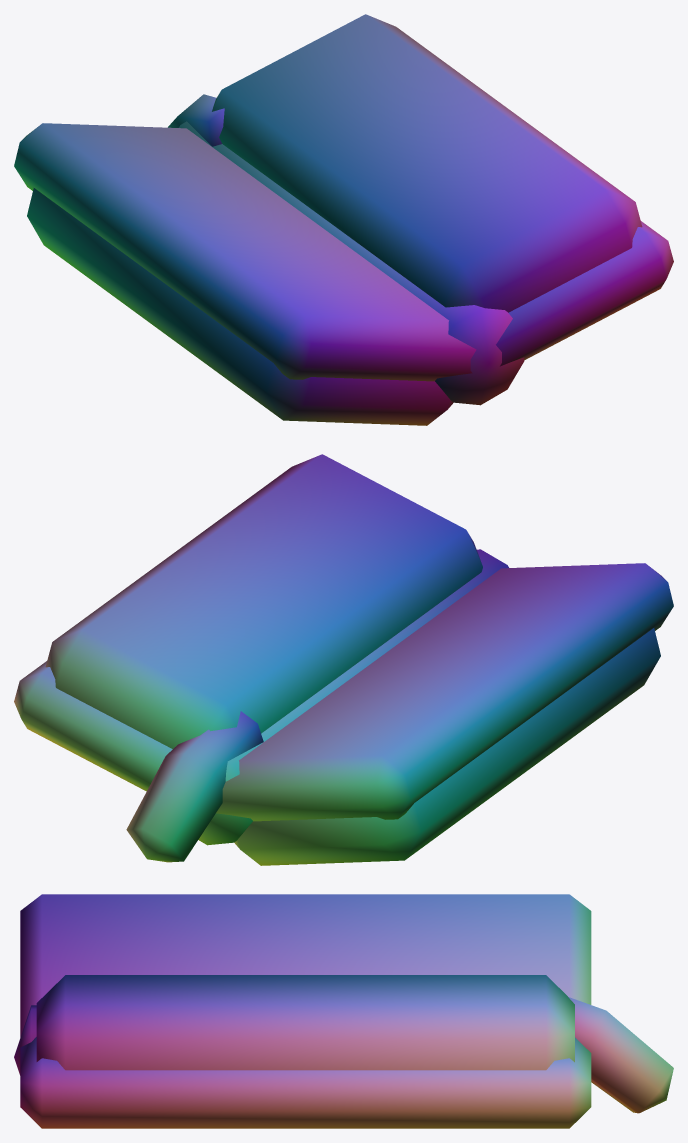
Rendered from SM_NPCKit_Prop_Ledger.fbx.
The picture shows the model from 3 angles, top to bottom: view 1: azimuth 30°, elevation 25°; view 2: azimuth 150°, elevation 25°; view 3: azimuth 270°, elevation 25°; orthographic projection.
Visible parts, largest first — view 1: SM_NPCKit_Prop_Ledger; view 2: SM_NPCKit_Prop_Ledger; view 3: SM_NPCKit_Prop_Ledger.
Part boxes in pixels (box(x1,y1,x2,y2)): SM_NPCKit_Prop_Ledger: box(14, 14, 673, 425); SM_NPCKit_Prop_Ledger: box(14, 454, 673, 865); SM_NPCKit_Prop_Ledger: box(14, 894, 673, 1128).
Bounding box in the file's own units: 0.2665 × 0.1237 × 0.382.
